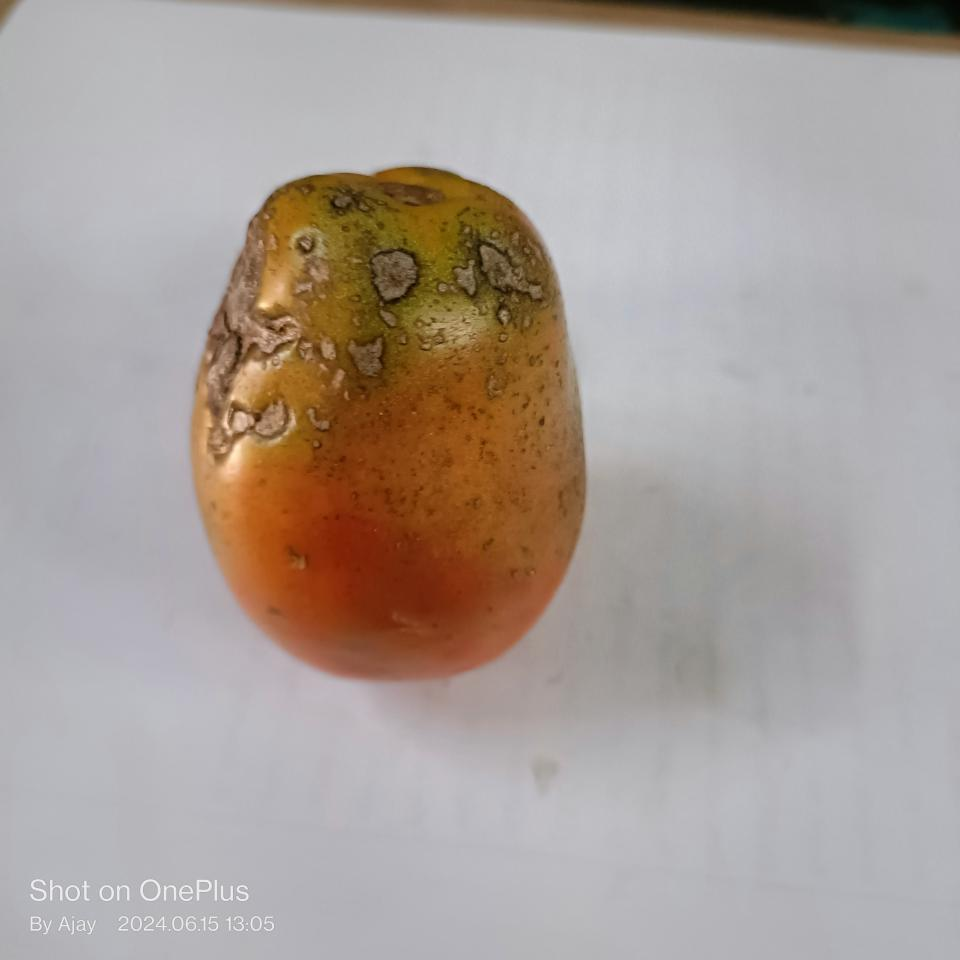Bacterial_Spot: (452, 223, 545, 345), (364, 246, 422, 329), (226, 308, 300, 366), (210, 406, 288, 457), (327, 185, 386, 219), (346, 338, 390, 376), (302, 407, 330, 452), (481, 373, 508, 397), (294, 234, 324, 255), (208, 369, 226, 395), (230, 283, 248, 305)
